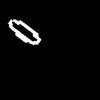chain: (8, 20, 40, 44)
